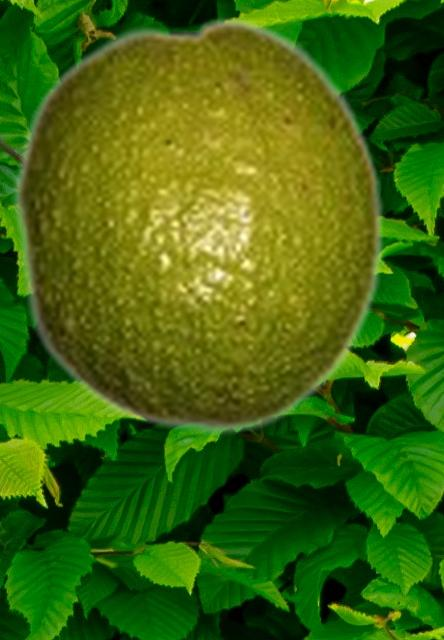avocado: (11, 14, 386, 437)
